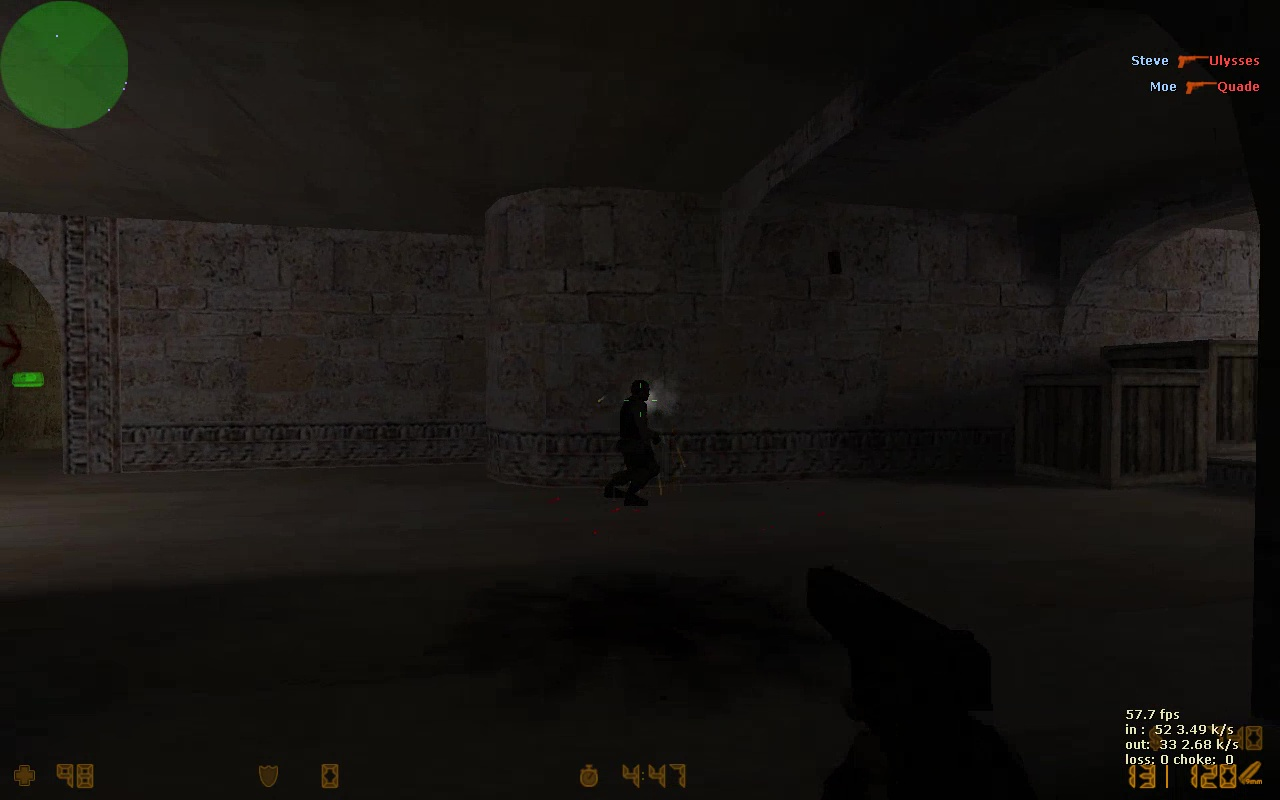terr1: (598, 382, 664, 510)
